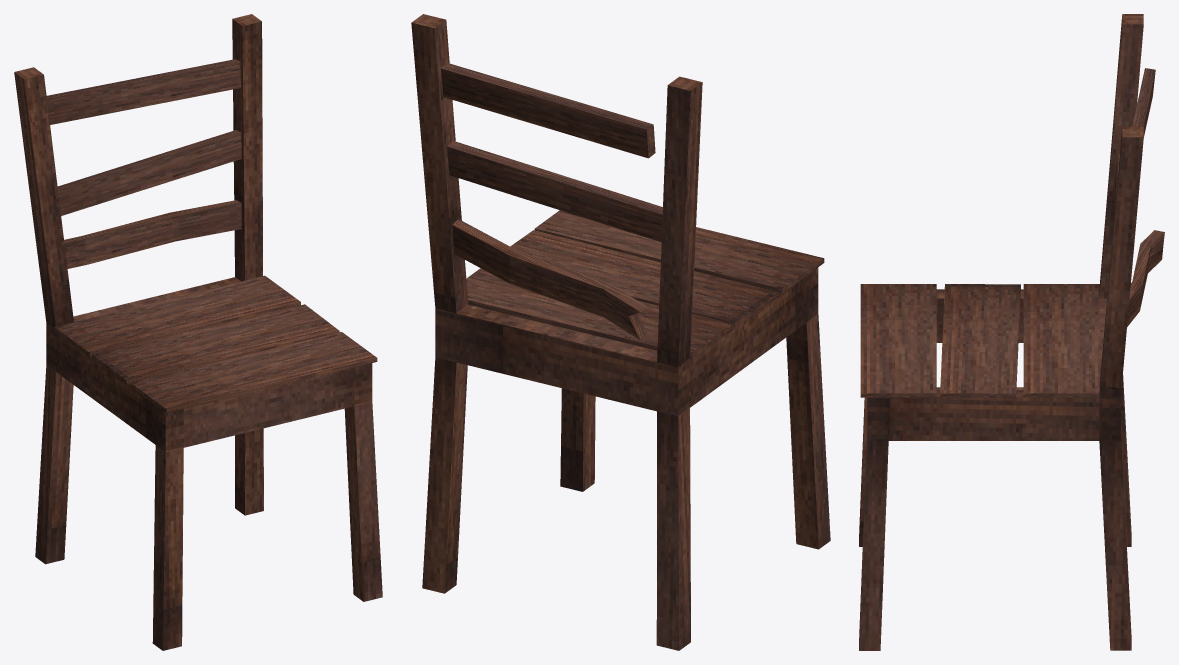
The model's file is Chair.fbx.
3 views of the same model, side by side, from view 1: azimuth 30°, elevation 25°; view 2: azimuth 150°, elevation 25°; view 3: azimuth 270°, elevation 25° (orthographic). The views are drawn at different scales.
Visible parts, largest first — view 1: Cube; view 2: Cube; view 3: Cube.
Boxes of the visible parts, bbox=[...] form: Cube: bbox=[14, 14, 382, 650]; Cube: bbox=[411, 14, 830, 650]; Cube: bbox=[859, 14, 1164, 650].
Bounding box in the file's own units: 230 × 448 × 241.
1 material, 1 textured.
